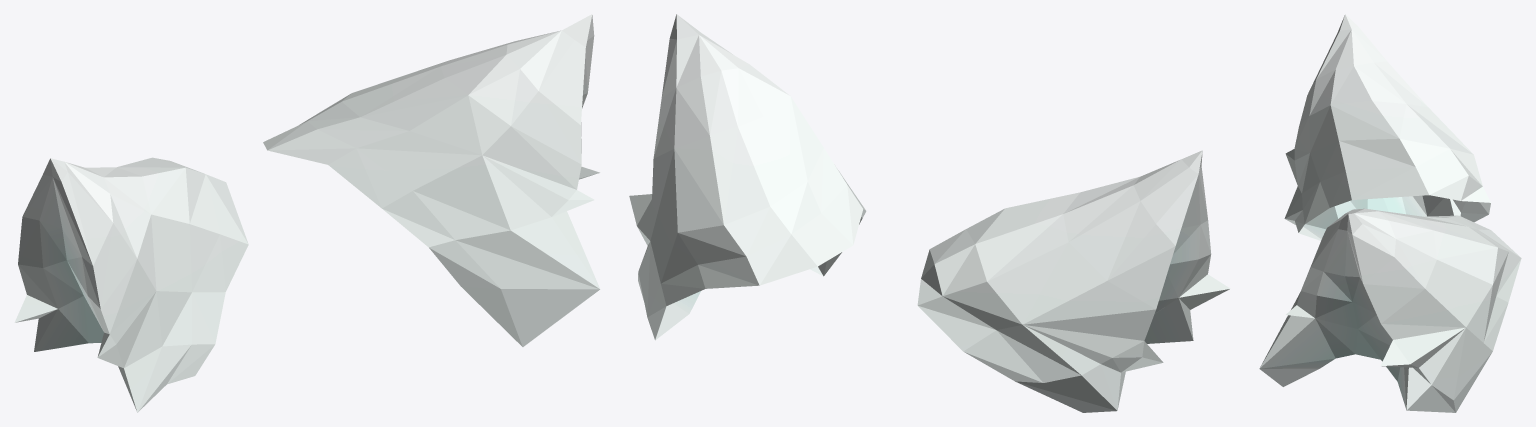
Rendered from CharSkyKid_Hair_MischiefCatEars.glb.
The picture shows the model from 3 angles, left to right: view 1: azimuth 30°, elevation 25°; view 2: azimuth 150°, elevation 25°; view 3: azimuth 270°, elevation 25°; orthographic projection. The views are drawn at different scales.
Visible parts, largest first — view 1: CharSkyKid_Hair_MischiefCatEars; view 2: CharSkyKid_Hair_MischiefCatEars; view 3: CharSkyKid_Hair_MischiefCatEars.
Part boxes in pixels (x1=…): CharSkyKid_Hair_MischiefCatEars: x1=14, y1=14, x2=600, y2=412; CharSkyKid_Hair_MischiefCatEars: x1=629, y1=14, x2=1230, y2=412; CharSkyKid_Hair_MischiefCatEars: x1=1259, y1=14, x2=1521, y2=412.
Size of the model in its own units: 3.4 by 1.57 by 1.72.
1 material, 1 textured.
